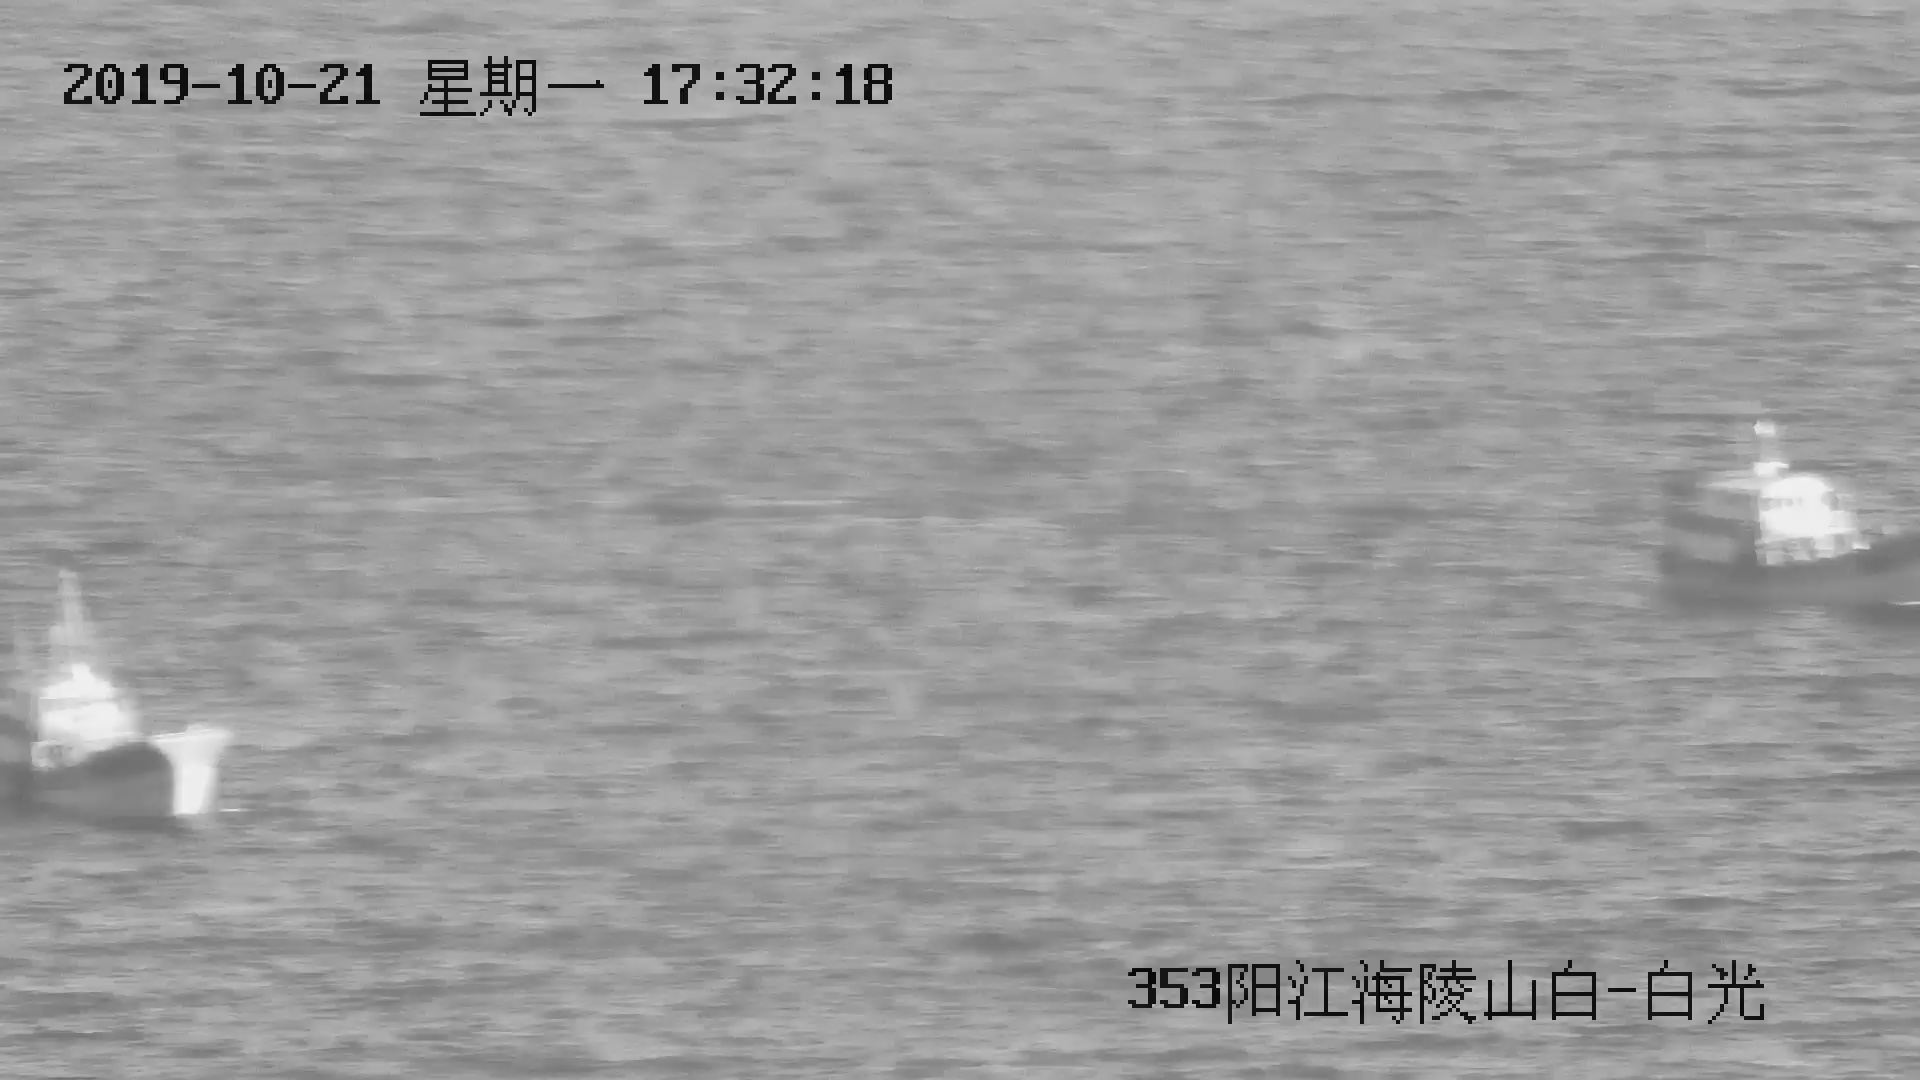ship: (1, 570, 229, 836), (1652, 438, 1920, 599)
